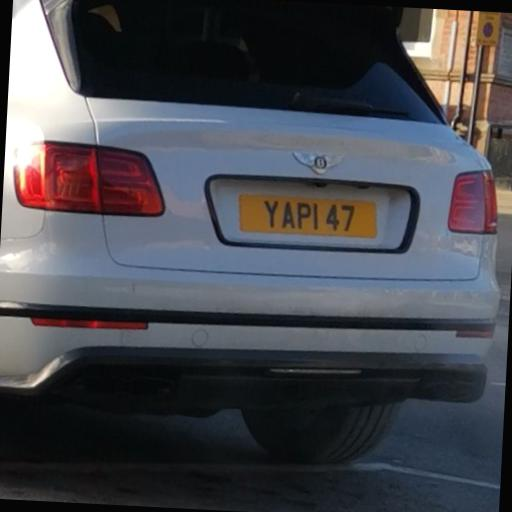numberplates: (239, 195, 377, 238)
